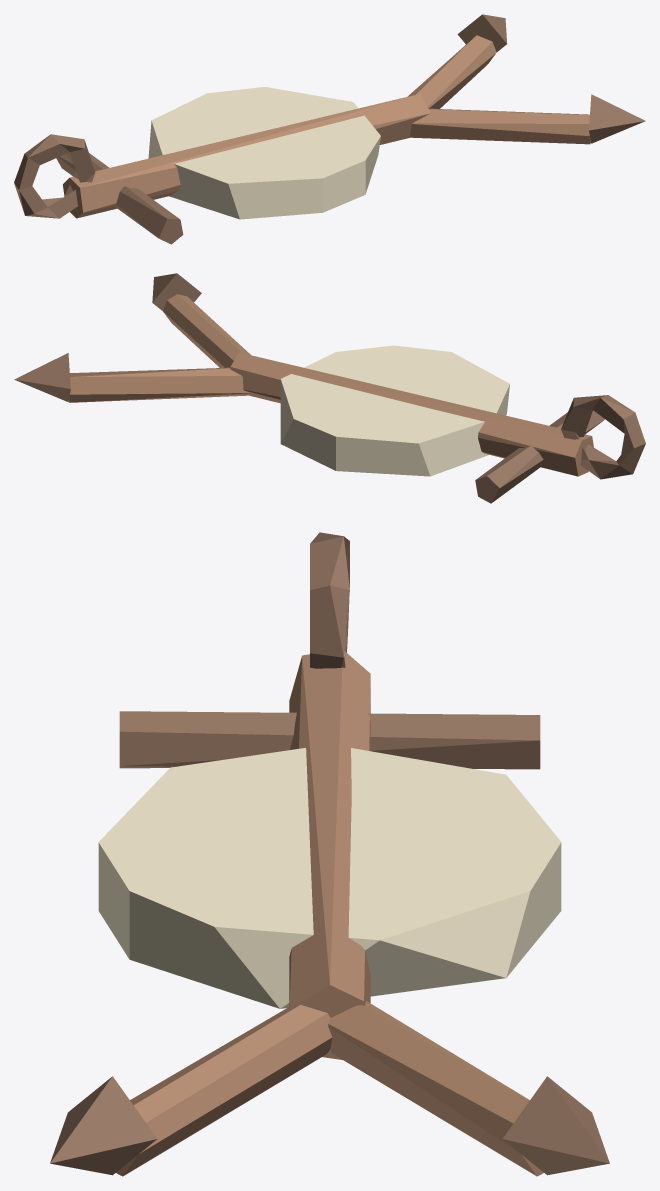
The model's file is 45-Arte3D_ancla_naufragio.glb.
3 views of the same model, one above another, from view 1: azimuth 30°, elevation 25°; view 2: azimuth 150°, elevation 25°; view 3: azimuth 270°, elevation 25° (orthographic). The views are drawn at different scales.
Parts seen in each view (by area): view 1: SM_Ancla_M_Arena_Isla, SM_Ancla_M_Ancla_Hierro, SM_Ancla_M_Ancla_Hierro_Osc; view 2: SM_Ancla_M_Arena_Isla, SM_Ancla_M_Ancla_Hierro, SM_Ancla_M_Ancla_Hierro_Osc; view 3: SM_Ancla_M_Arena_Isla, SM_Ancla_M_Ancla_Hierro, SM_Ancla_M_Ancla_Hierro_Osc.
Boxes of the visible parts, left/top/right/bottom form: SM_Ancla_M_Arena_Isla: left=148, top=87, right=380, bottom=219; SM_Ancla_M_Ancla_Hierro: left=63, top=35, right=590, bottom=218; SM_Ancla_M_Ancla_Hierro_Osc: left=14, top=14, right=645, bottom=244; SM_Ancla_M_Arena_Isla: left=280, top=345, right=509, bottom=476; SM_Ancla_M_Ancla_Hierro: left=69, top=294, right=593, bottom=476; SM_Ancla_M_Ancla_Hierro_Osc: left=14, top=273, right=645, bottom=503; SM_Ancla_M_Arena_Isla: left=98, top=748, right=561, bottom=1008; SM_Ancla_M_Ancla_Hierro: left=116, top=651, right=543, bottom=1176; SM_Ancla_M_Ancla_Hierro_Osc: left=50, top=532, right=609, bottom=1175.
Size of the model in its own units: 3.06 by 0.4442 by 1.33.
